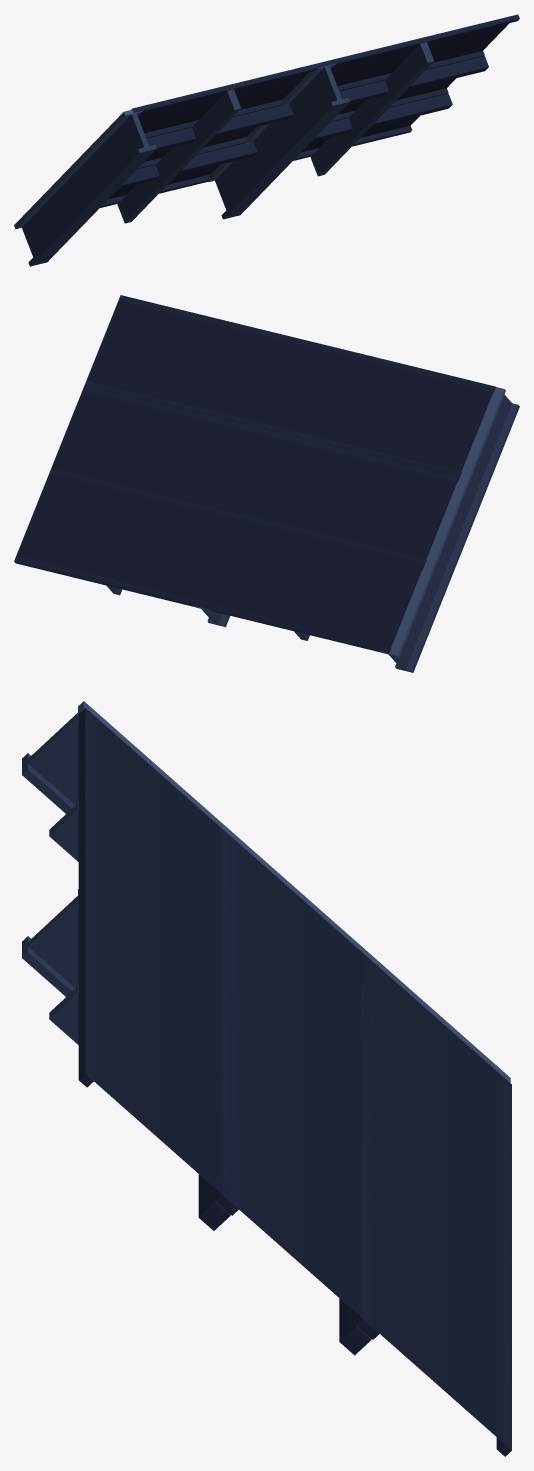
File: SM_Ceiling_Soffit_4m.fbx
3 renders of one model, top to bottom at view 1: azimuth 30°, elevation 25°; view 2: azimuth 150°, elevation 25°; view 3: azimuth 270°, elevation 25°, orthographic. The views are drawn at different scales.
Parts seen in each view (by area): view 1: SM_Ceiling_Soffit_4m; view 2: SM_Ceiling_Soffit_4m; view 3: SM_Ceiling_Soffit_4m.
Part boxes in pixels (x1,y1,x2,y2): SM_Ceiling_Soffit_4m: [14, 14, 519, 266]; SM_Ceiling_Soffit_4m: [14, 295, 519, 672]; SM_Ceiling_Soffit_4m: [22, 701, 511, 1456].
Bounding box in the file's own units: 4.09 × 2.22 × 2.26.
Materials: 1 (1 with a texture image).
